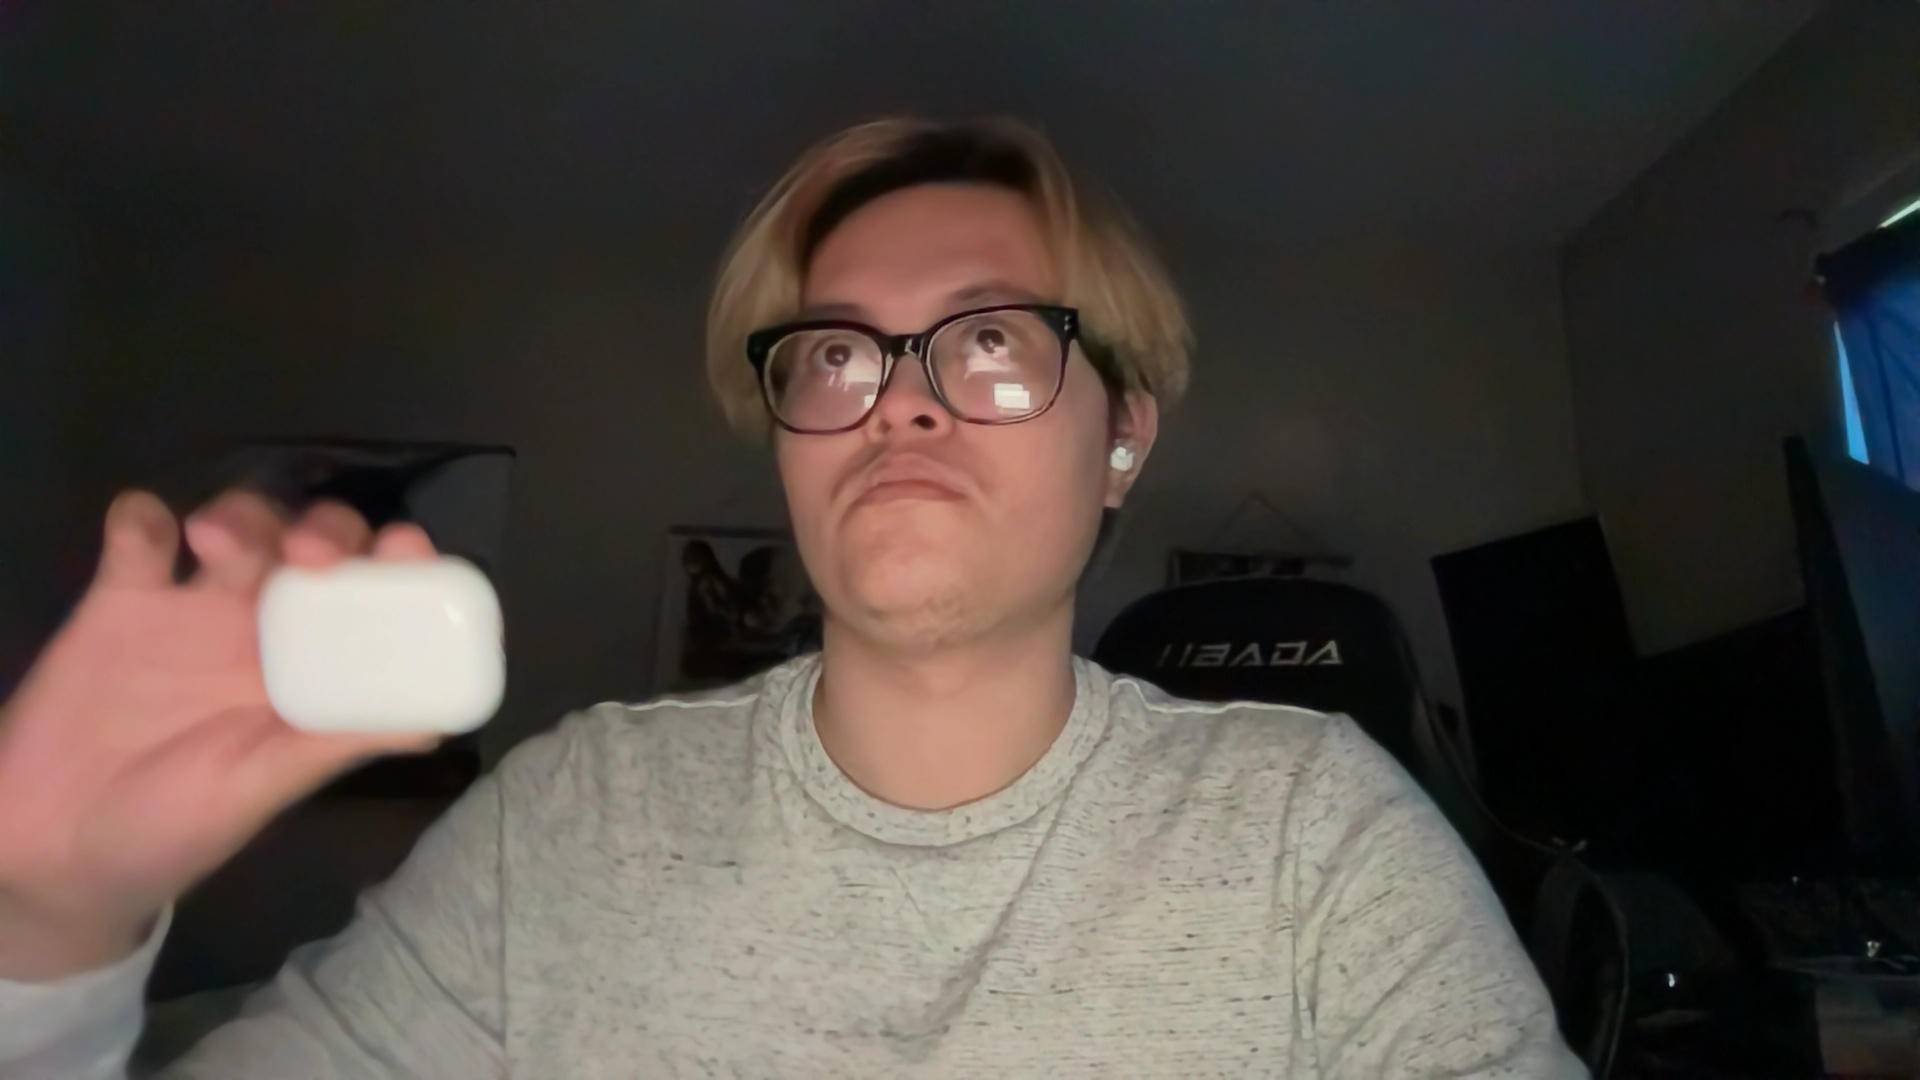airpods: (251, 558, 516, 740)
